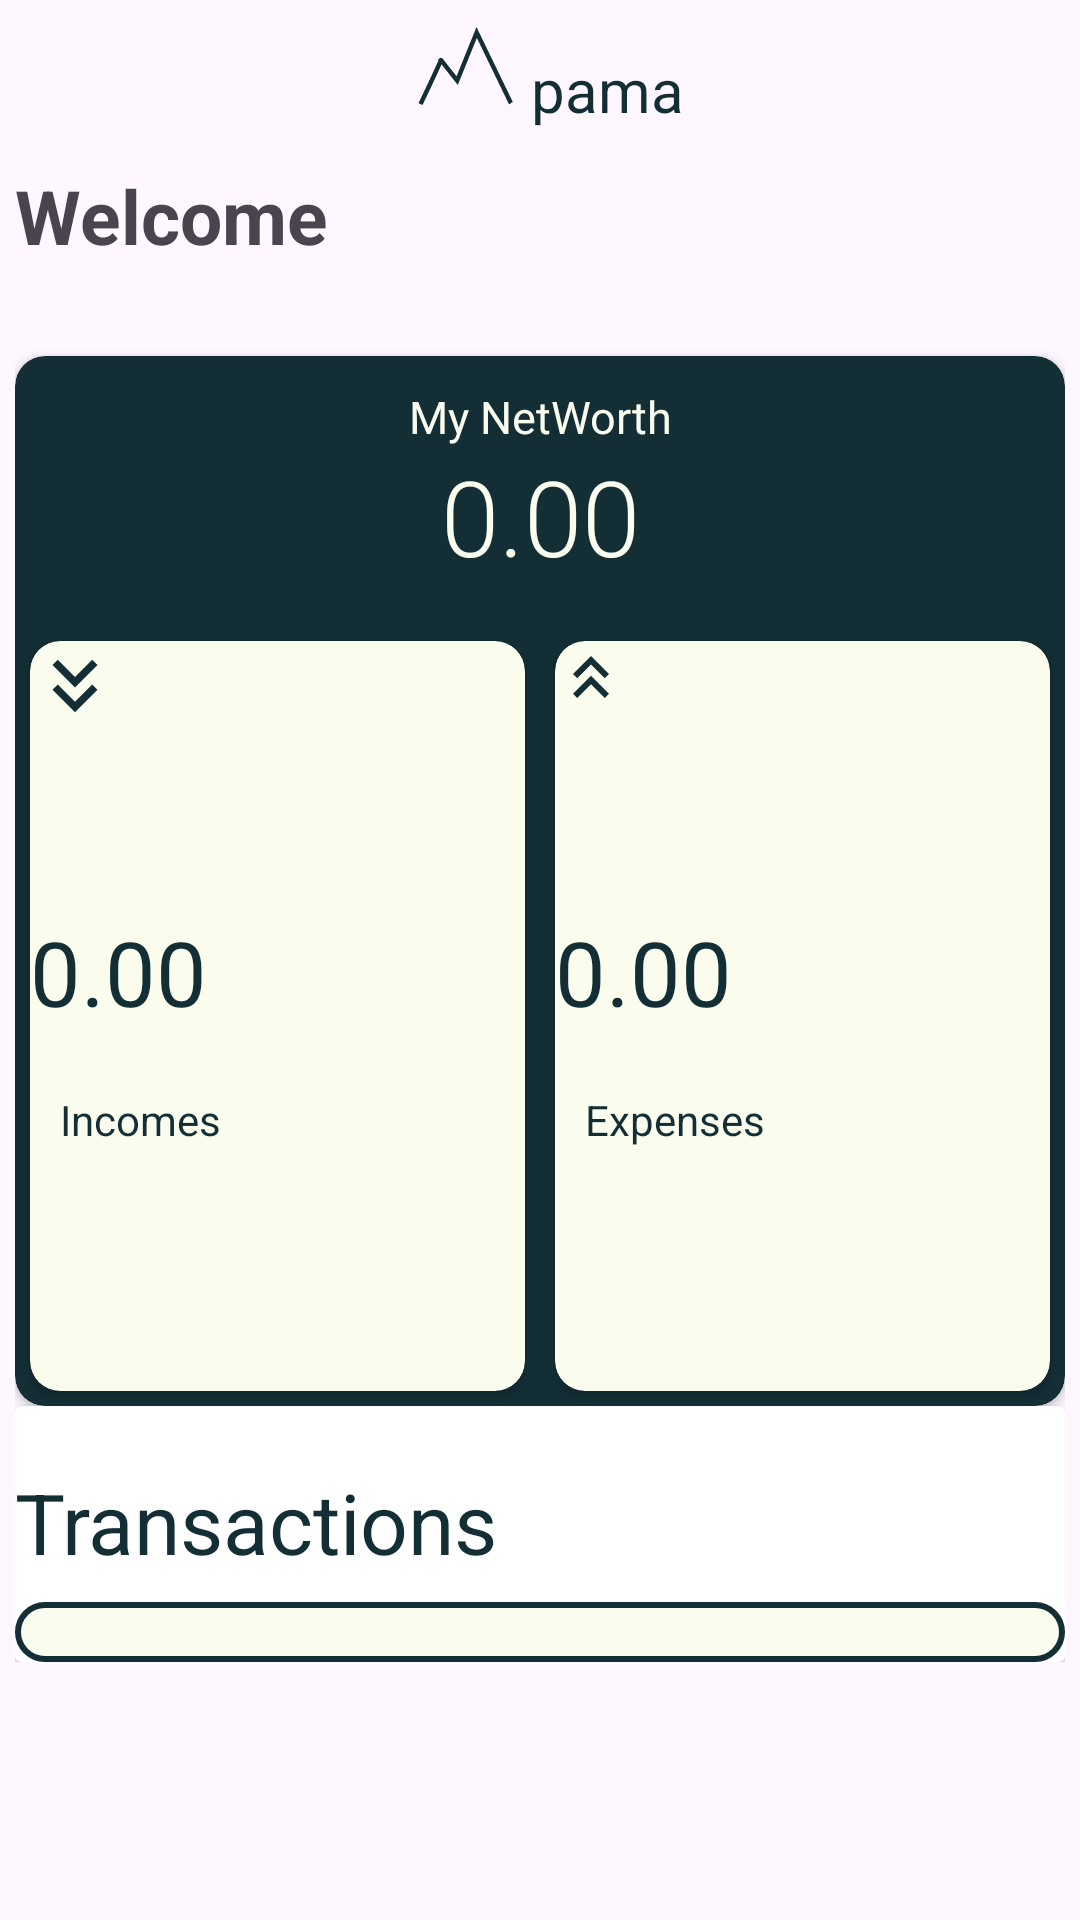

Icons on this 1080 × 1920 Android screen, each with the point to tap as (x=x, y=y):
expenses: (x=591, y=677)
income: (x=75, y=686)
